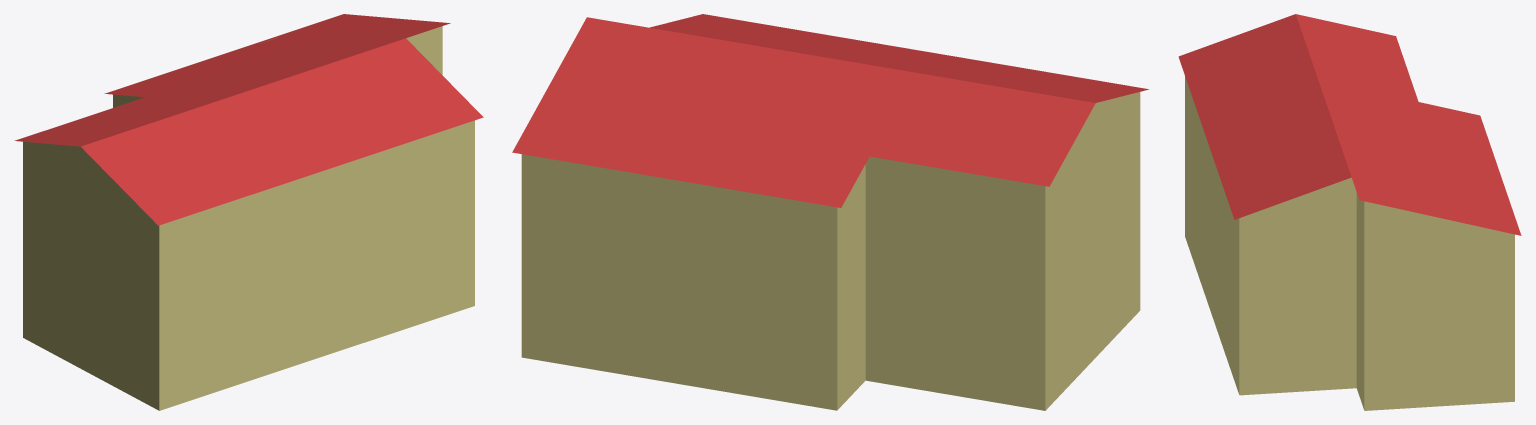
The picture shows the model from 3 angles, left to right: view 1: azimuth 30°, elevation 25°; view 2: azimuth 150°, elevation 25°; view 3: azimuth 270°, elevation 25°; orthographic projection. The views are drawn at different scales.
Size of the model in its own units: 19.34 by 14.58 by 10.01.
